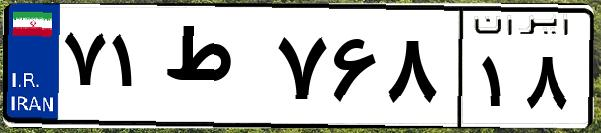1: (475, 38, 525, 113), (110, 28, 158, 98)
6: (330, 28, 385, 110)
7: (270, 28, 330, 110), (57, 26, 110, 100)
8: (385, 28, 445, 110), (525, 38, 570, 115)
ط: (158, 20, 270, 120)
